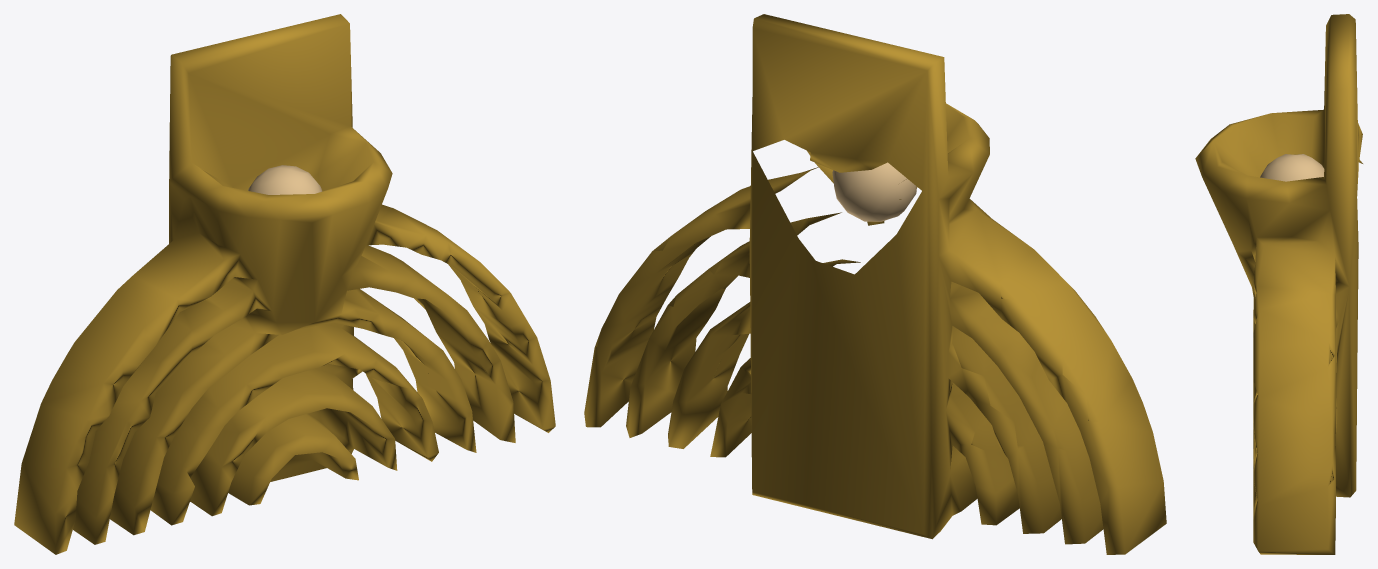
The model's file is lumiere-fan-sconce.glb.
3 renders of one model, left to right at view 1: azimuth 30°, elevation 25°; view 2: azimuth 150°, elevation 25°; view 3: azimuth 270°, elevation 25°, orthographic. The views are drawn at different scales.
Parts seen in each view (by area): view 1: lumiere-fan-sconce_LOD0, lumiere-fan-sconce-glow_LOD0; view 2: lumiere-fan-sconce_LOD0, lumiere-fan-sconce-glow_LOD0; view 3: lumiere-fan-sconce_LOD0, lumiere-fan-sconce-glow_LOD0.
Boxes of the visible parts, x1,y1,x2,y2 form: lumiere-fan-sconce_LOD0: (14,14,555,554); lumiere-fan-sconce-glow_LOD0: (248,165,322,194); lumiere-fan-sconce_LOD0: (584,14,1166,554); lumiere-fan-sconce-glow_LOD0: (832,162,916,221); lumiere-fan-sconce_LOD0: (1195,14,1362,554); lumiere-fan-sconce-glow_LOD0: (1260,154,1324,181).
Size of what is drawn, in the model's own units: 0.5184 by 0.4354 by 0.1623.
